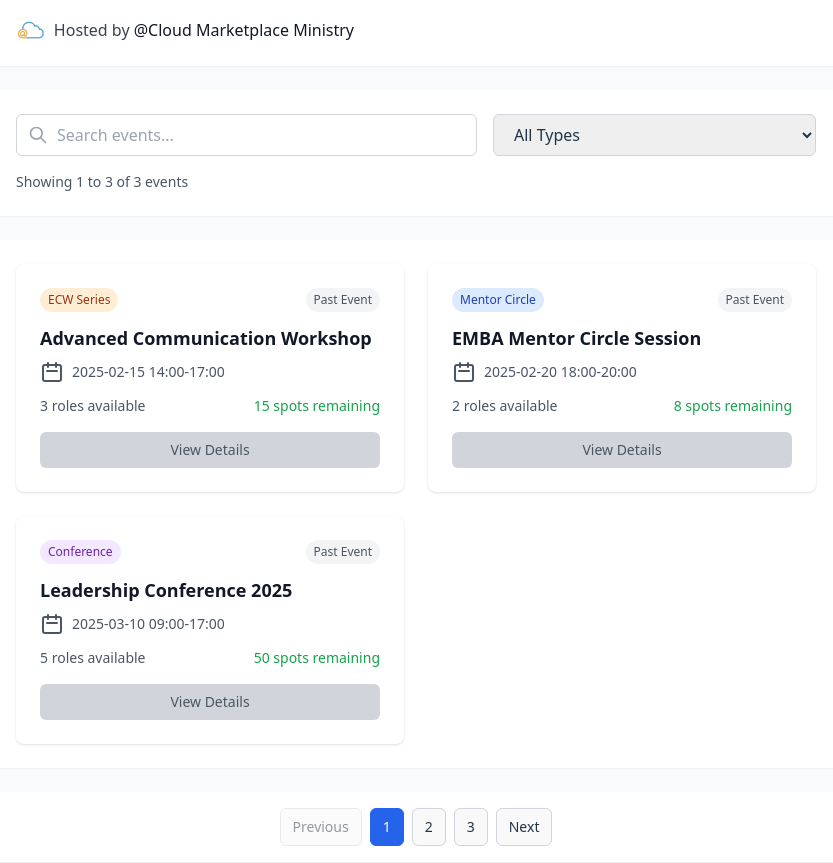
Test: PublicEventsList › Pagination › should disable Next button on last page
The image size is (833, 863).
(page scrolled)
Check: the heading "Advanced Communication Workshop" is shown, box 40,324 -> 380,352
// Navigate to last page first
Click the button "3" at (471, 827), box 454,808 -> 488,846
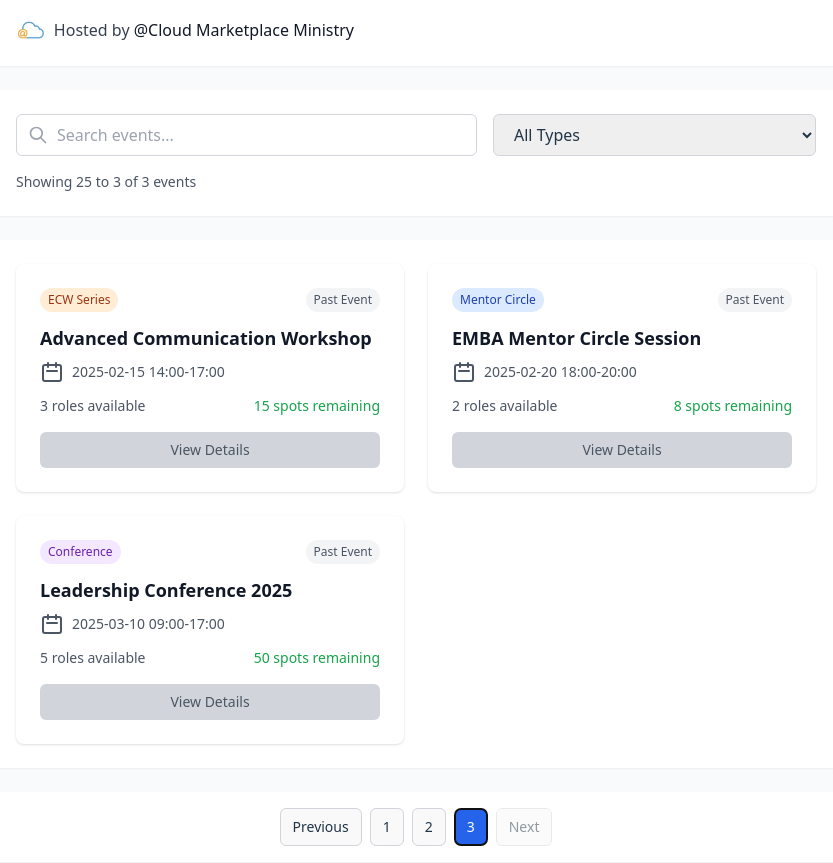
Check: the button "Next" is disabled, box 496,808 -> 552,846
